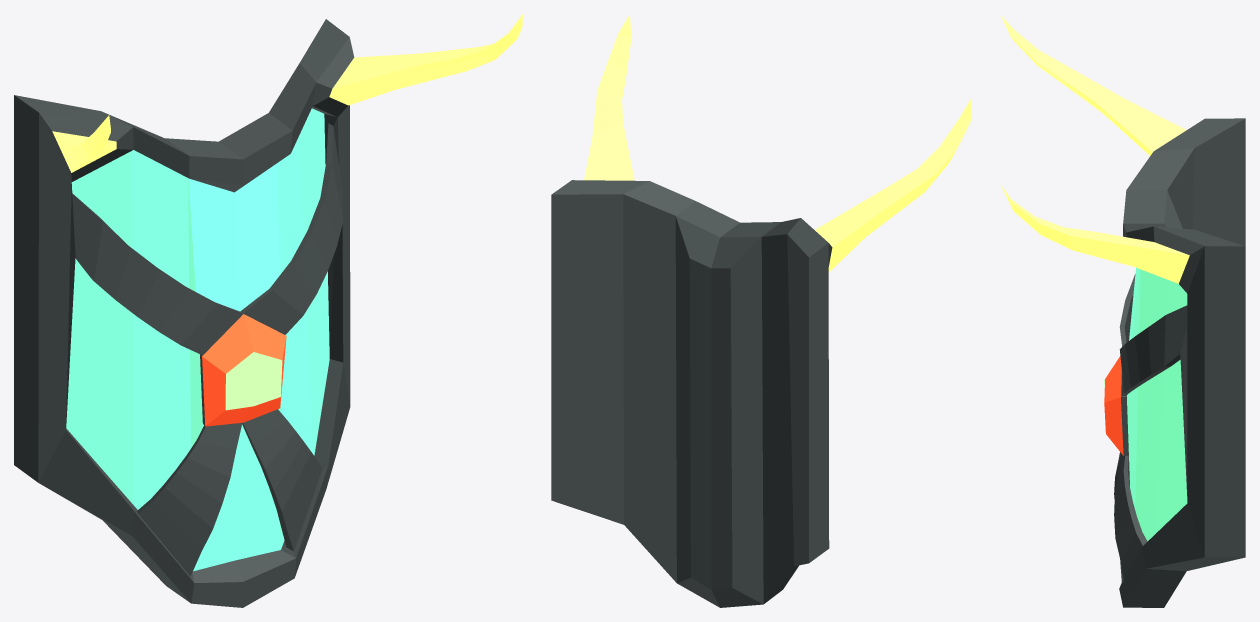
The model's file is shield.fbx.
3 views of the same model, side by side, from view 1: azimuth 30°, elevation 25°; view 2: azimuth 150°, elevation 25°; view 3: azimuth 270°, elevation 25° (orthographic). The views are drawn at different scales.
Parts seen in each view (by area): view 1: shield; view 2: shield; view 3: shield.
Boxes of the visible parts, x1=… form: shield: x1=14, y1=14, x2=522, y2=607; shield: x1=551, y1=14, x2=971, y2=607; shield: x1=1000, y1=14, x2=1245, y2=607.
Bounding box in the file's own units: 89.97 × 120 × 53.21.
